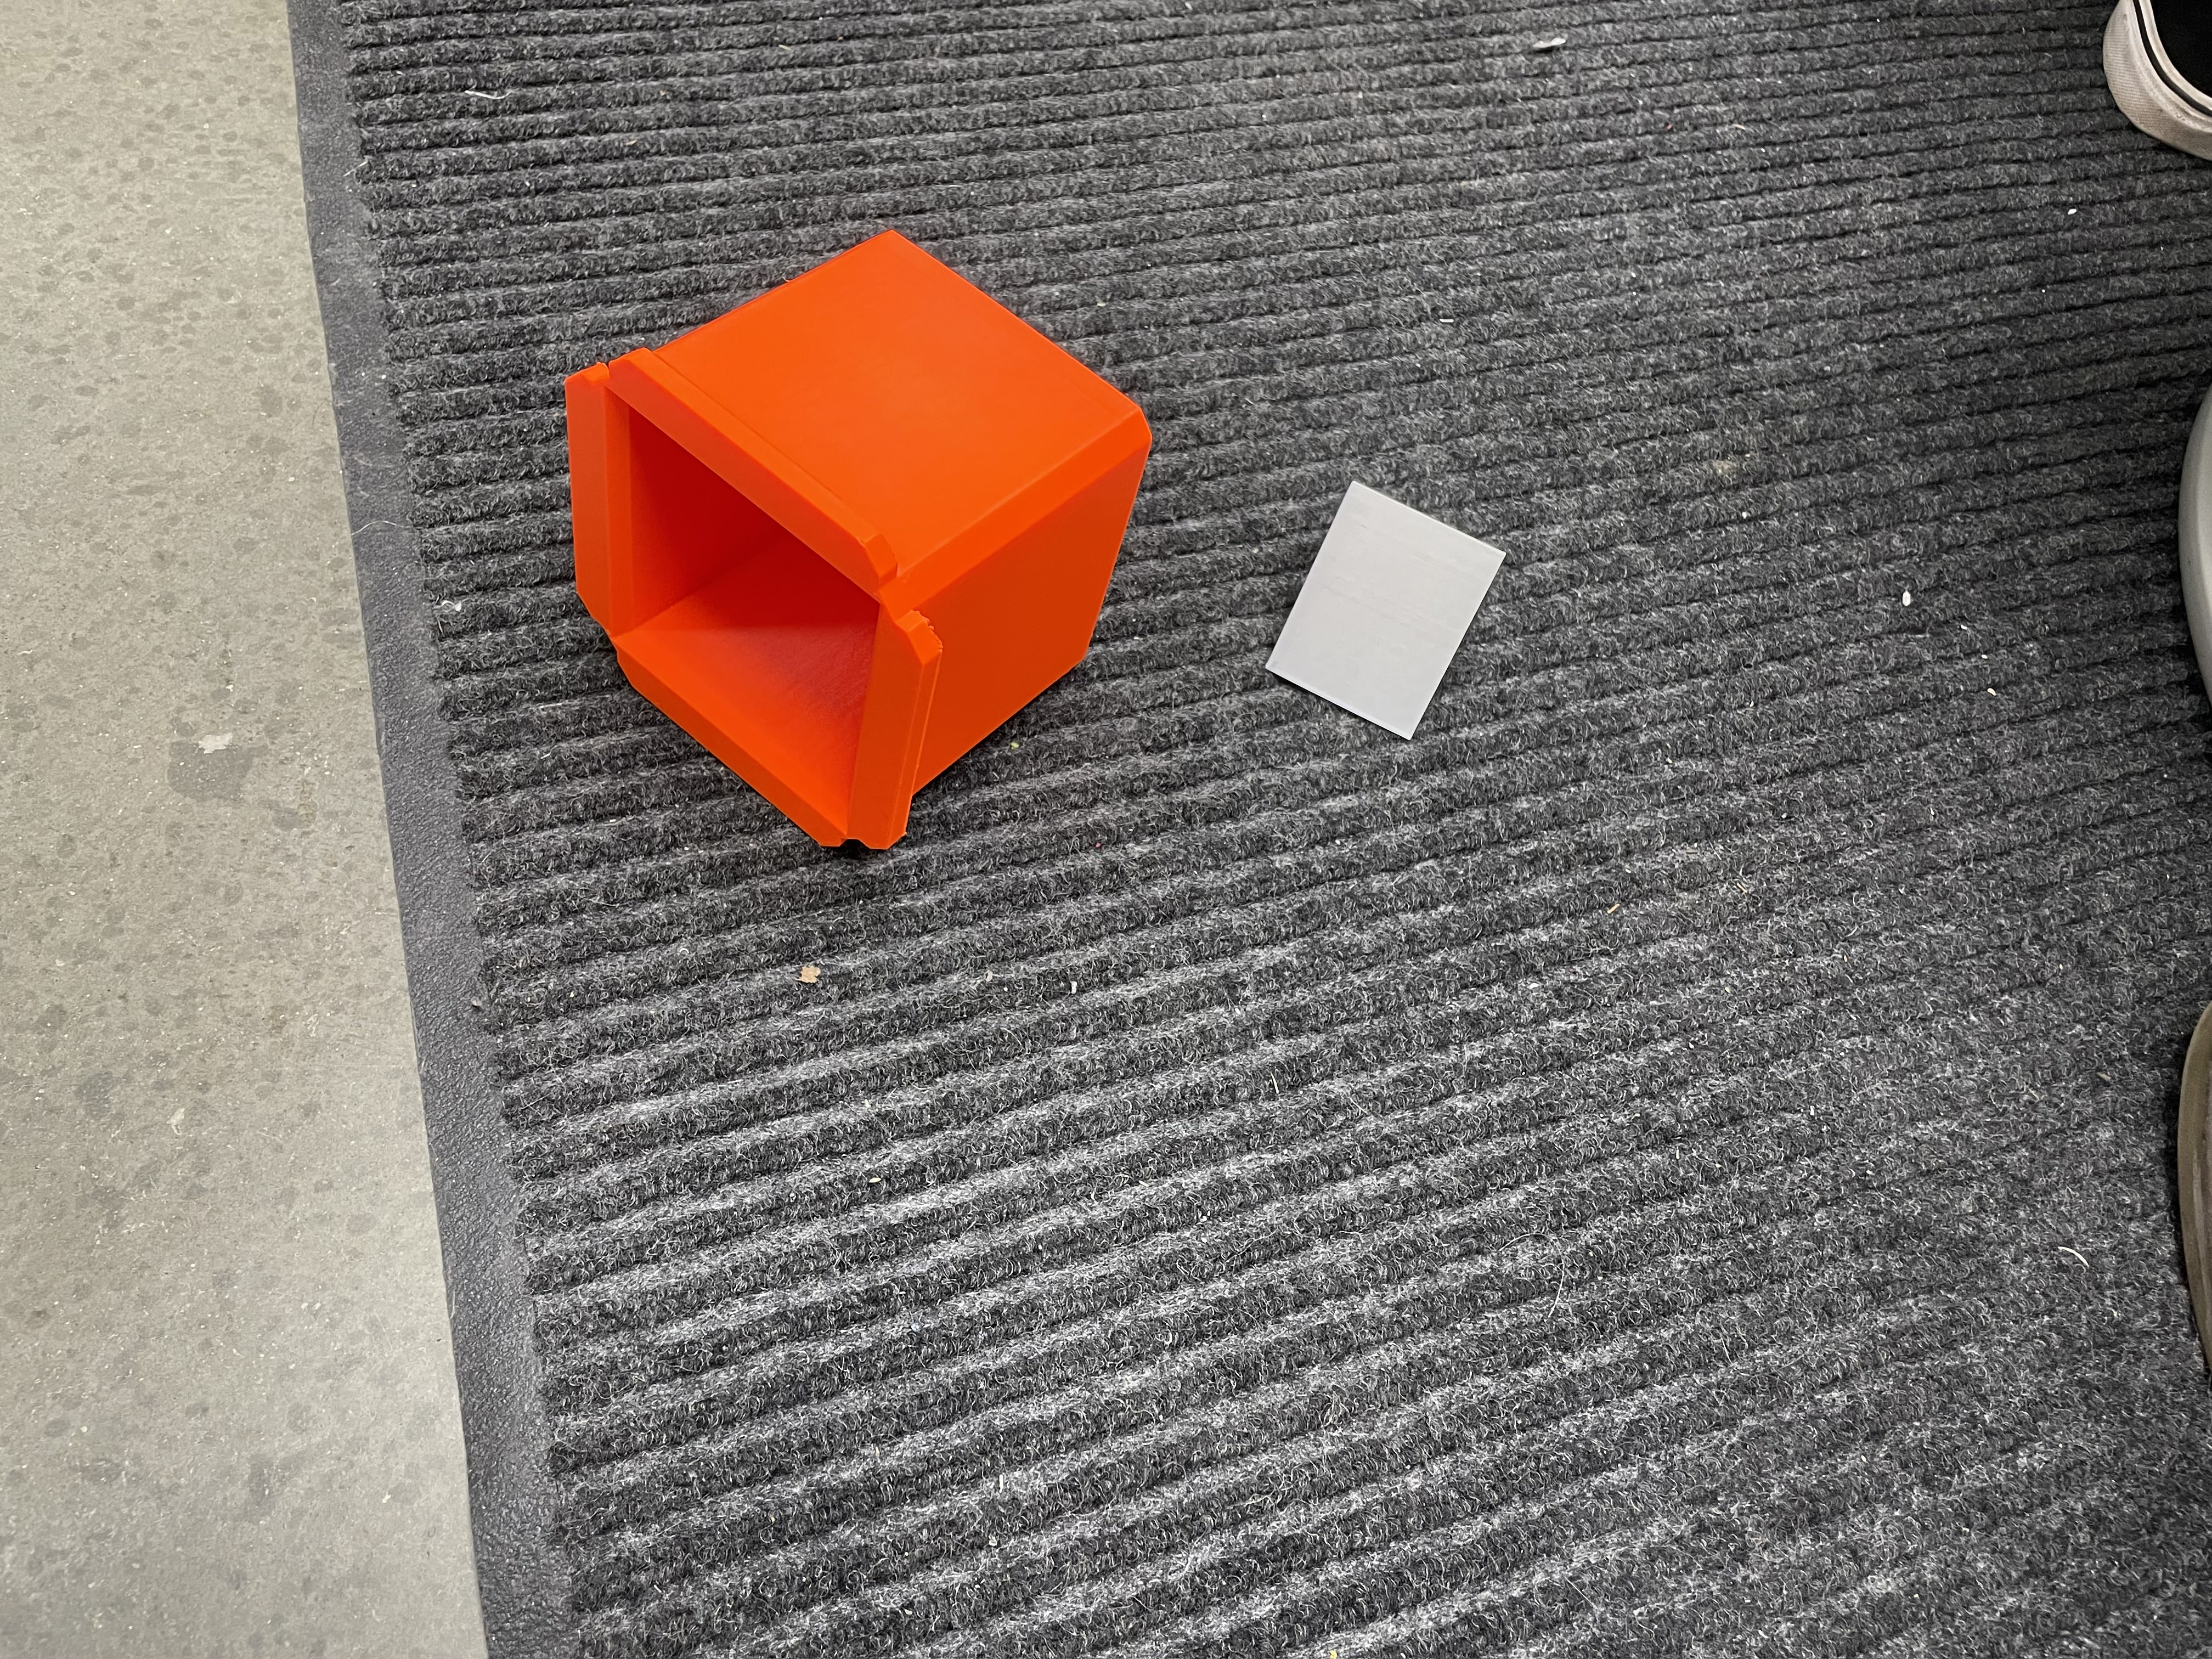payload1: (552, 221, 1181, 901)
payload2: (1259, 467, 1522, 782)
